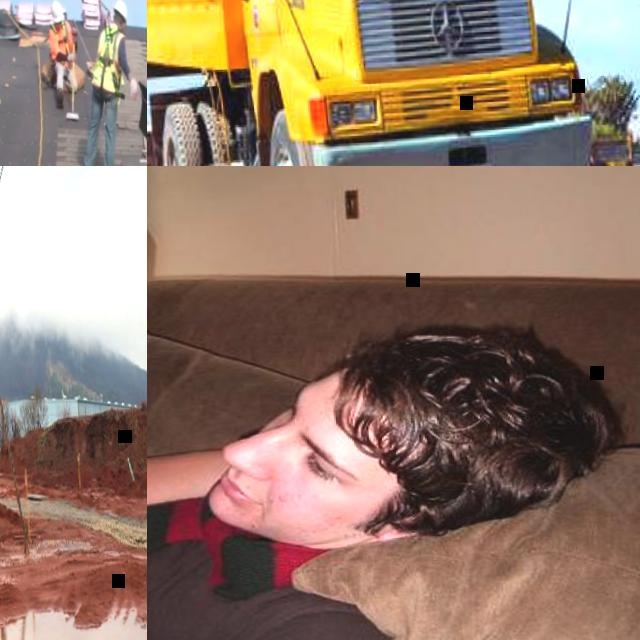Hardhat: (112, 0, 127, 22), (50, 0, 63, 23)
NO-Hardhat: (328, 312, 607, 527)
NO-Mask: (199, 428, 316, 547)
NO-Safety Vest: (147, 489, 275, 595)
Person: (147, 178, 629, 606), (70, 0, 144, 166), (46, 0, 78, 110)
Safety Vest: (87, 23, 127, 90), (51, 20, 70, 63)
machinery: (147, 0, 603, 166)
